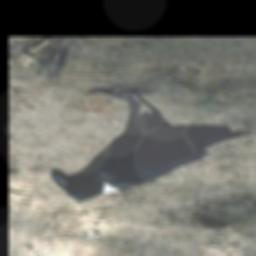Crow: (51, 84, 255, 204)
